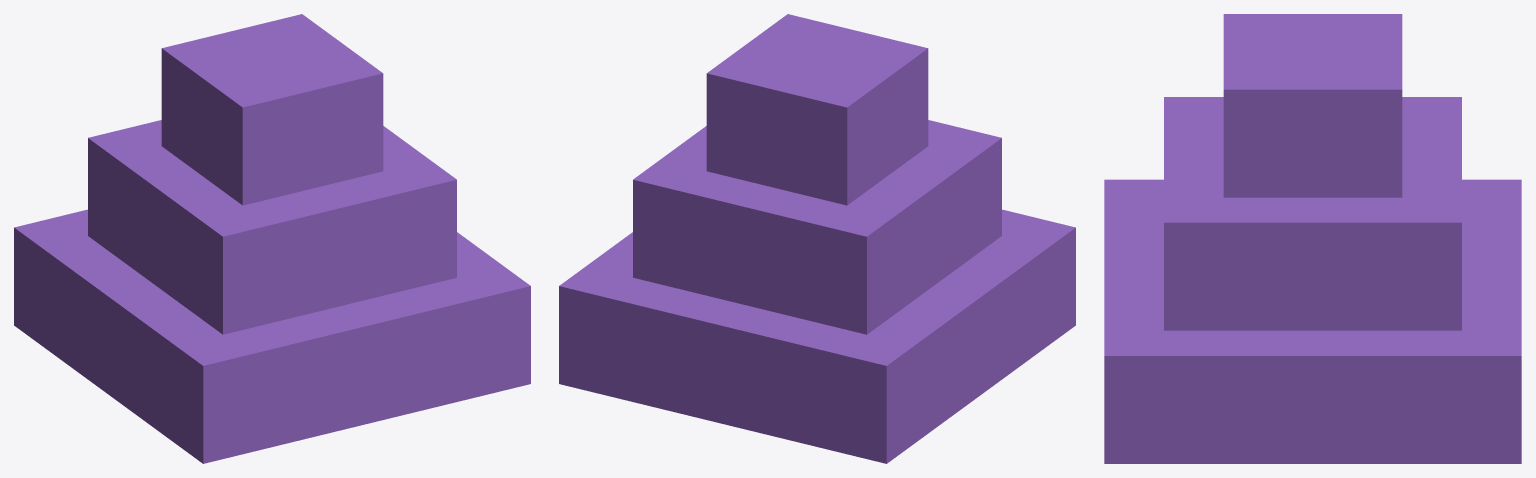
File: Gem.dae
3 views of the same model, side by side, from view 1: azimuth 30°, elevation 25°; view 2: azimuth 150°, elevation 25°; view 3: azimuth 270°, elevation 25° (orthographic). The views are drawn at different scales.
Visible parts, largest first — view 1: Gem; view 2: Gem; view 3: Gem.
Part boxes in pixels (<box>): Gem: <box>14,14,530,463</box>; Gem: <box>559,14,1075,463</box>; Gem: <box>1104,14,1521,463</box>.
Bounding box in the file's own units: 7 × 6 × 7.
1 material, 1 textured.
